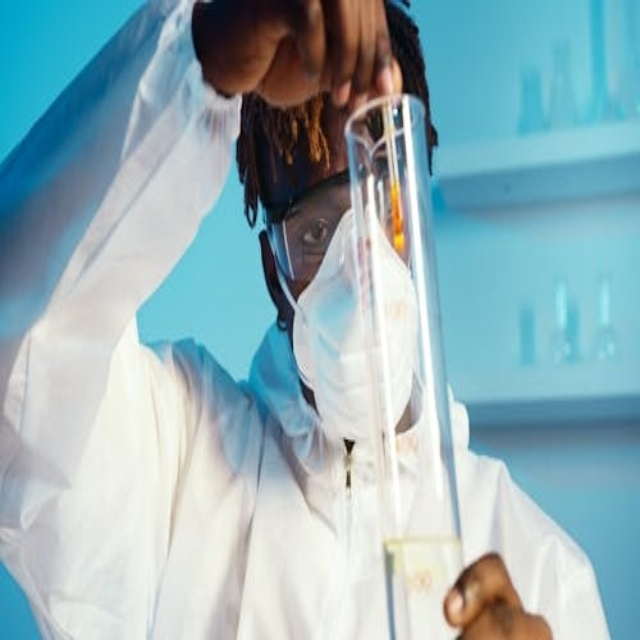Gafas: (262, 163, 399, 295)
Mascara: (283, 198, 421, 449)
Sin_guantes: (196, 0, 396, 119), (442, 551, 551, 640)
